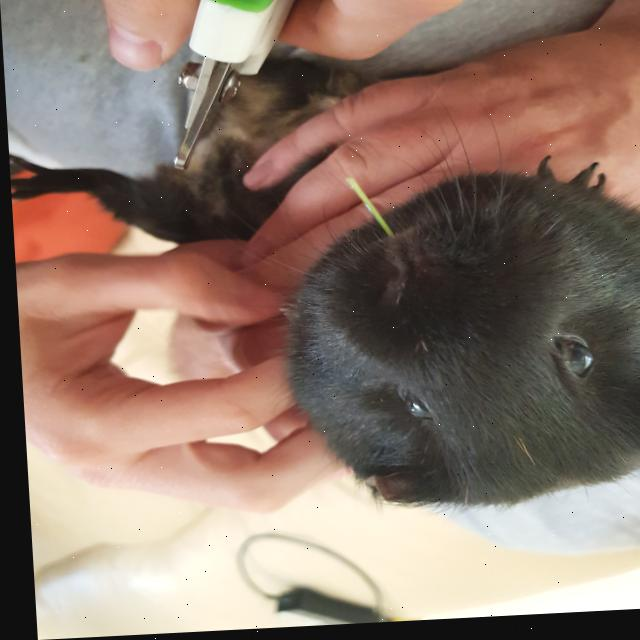guinea pig: (3, 41, 640, 532)
